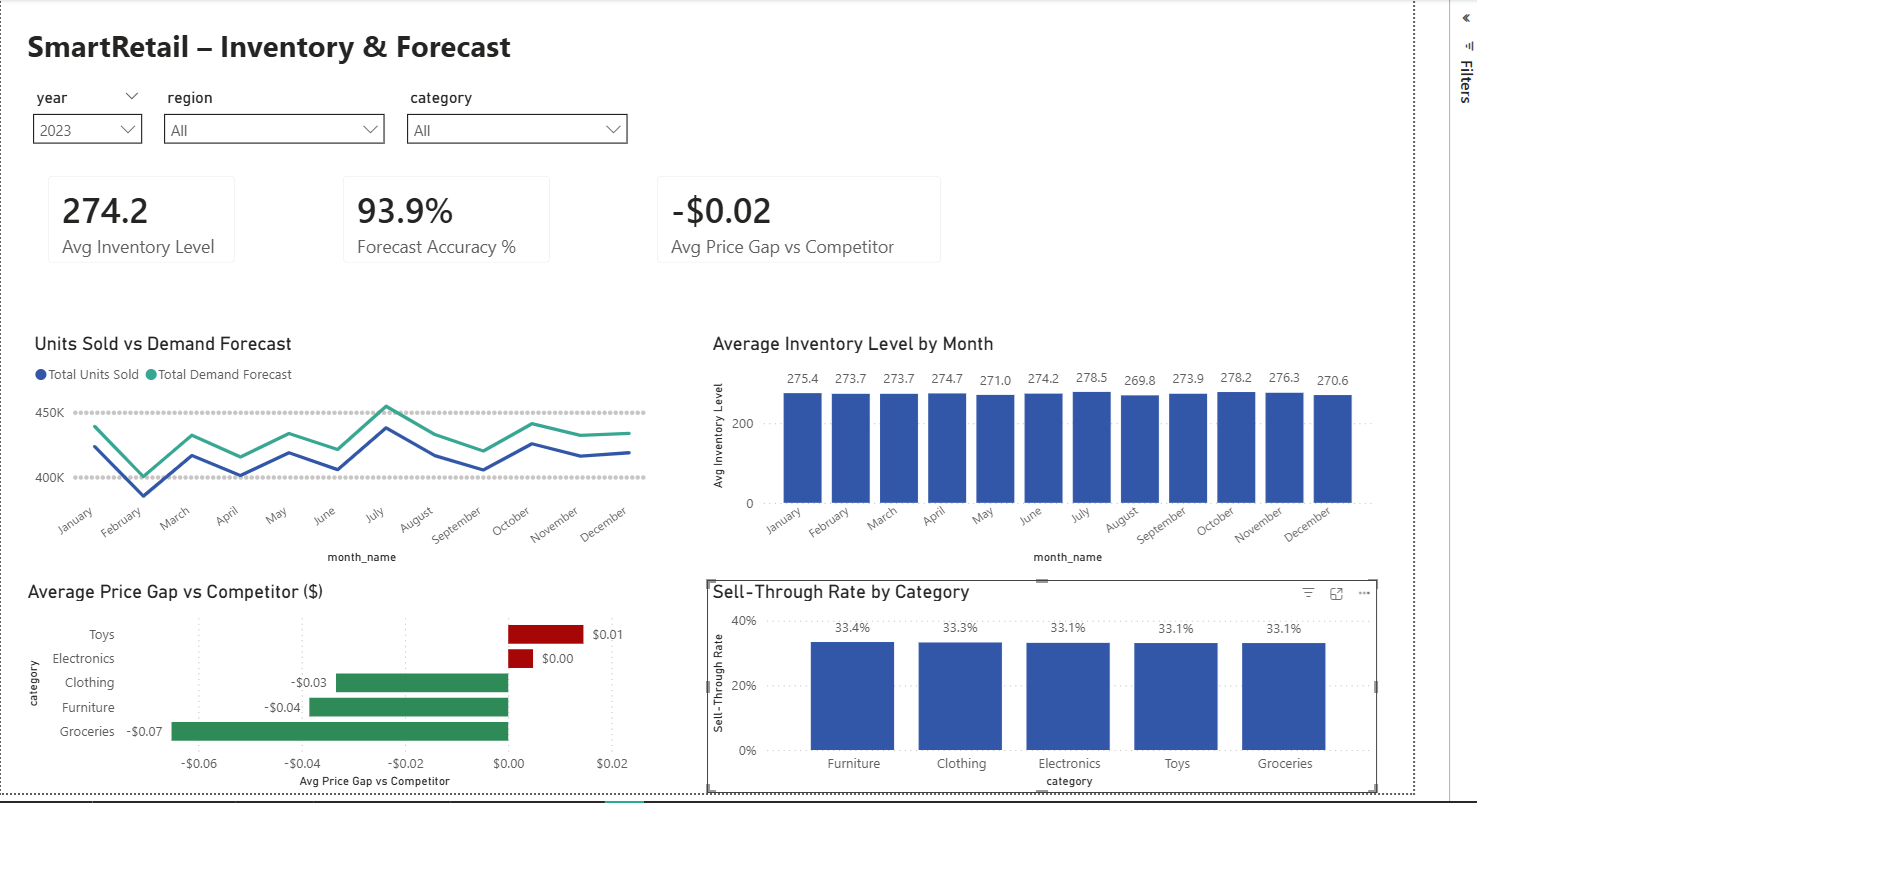

What the dashboard file says about the page in this screenshot:
{"tool":"powerbi","page":{"name":"Inventory & Forecast","canvas":[1280,720],"ordinal":3},"visuals":[{"type":"slicer","fields":{"Values":["dim_date.year"]},"box":[19.5,75.9,118.7,74.9],"z":0},{"type":"textbox","box":[19,19,467.9,49.9],"z":1000},{"type":"slicer","fields":{"Values":["fact_store_product_daily.region"]},"box":[138.1,75.9,219.8,67.1],"z":2000},{"type":"slicer","fields":{"Values":["fact_store_product_daily.category"]},"box":[357.9,75.9,219.8,67.1],"z":3000},{"type":"cardVisual","fields":{"Data":["_Measures.Avg Price Gap vs Competitor"]},"box":[577.6,143.3,292.9,113.4],"z":4000},{"type":"cardVisual","fields":{"Data":["_Measures.Forecast Accuracy %"]},"box":[292.9,143.3,222.2,113.4],"z":5000},{"type":"cardVisual","fields":{"Data":["_Measures.Avg Inventory Level"]},"box":[25.4,143.3,204.9,113.4],"z":6000},{"type":"lineChart","title":"Units Sold vs Demand Forecast","fields":{"Category":["dim_date.month_name"],"Y":["_Measures.Total Units Sold","_Measures.Total Demand Forecast"]},"box":[25.4,302,566.8,214.9],"z":7000},{"type":"clusteredColumnChart","title":"Average Inventory Level by Month","fields":{"Category":["dim_date.month_name"],"Y":["_Measures.Avg Inventory Level"]},"box":[640.2,302,607.6,214.9],"z":8000},{"type":"clusteredBarChart","title":"Average Price Gap vs Competitor ($)","fields":{"Category":["fact_store_product_daily.category"],"Y":["_Measures.Avg Price Gap vs Competitor"]},"box":[19,526.9,566.8,193.1],"z":9000},{"type":"clusteredColumnChart","title":"Sell-Through Rate by Category","fields":{"Category":["fact_store_product_daily.category"],"Y":["_Measures.Sell-Through Rate"]},"box":[640.2,526.9,607.6,193.1],"z":10000}]}

Visuals, with their boxes on the page's 1280x720 design canvas (x1, y1, x2, y2). These are canvas units, not pixel positions in the 1900x869 screenshot, which may show the page scaled, cropped or inside an application window:
slicer - dim_date.year: {"left": 20, "top": 76, "right": 138, "bottom": 151}
textbox: {"left": 19, "top": 19, "right": 487, "bottom": 69}
slicer - fact_store_product_daily.region: {"left": 138, "top": 76, "right": 358, "bottom": 143}
slicer - fact_store_product_daily.category: {"left": 358, "top": 76, "right": 578, "bottom": 143}
cardVisual - _Measures.Avg Price Gap vs Competitor: {"left": 578, "top": 143, "right": 870, "bottom": 257}
cardVisual - _Measures.Forecast Accuracy %: {"left": 293, "top": 143, "right": 515, "bottom": 257}
cardVisual - _Measures.Avg Inventory Level: {"left": 25, "top": 143, "right": 230, "bottom": 257}
"Units Sold vs Demand Forecast" lineChart: {"left": 25, "top": 302, "right": 592, "bottom": 517}
"Average Inventory Level by Month" clusteredColumnChart: {"left": 640, "top": 302, "right": 1248, "bottom": 517}
"Average Price Gap vs Competitor ($)" clusteredBarChart: {"left": 19, "top": 527, "right": 586, "bottom": 720}
"Sell-Through Rate by Category" clusteredColumnChart: {"left": 640, "top": 527, "right": 1248, "bottom": 720}
